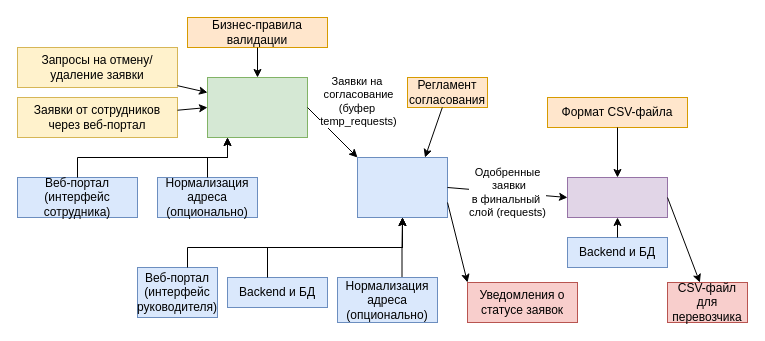
Image size: 765x341. Some labels were removed from this diagram. The shapes that lost their labels are listed below. From the top down, each one's box as (x1, y1, x2, y2) in pixels, then its label:
(206, 76, 308, 138): A1: Прием и нормализация заявок
(356, 156, 448, 218): A2: Согласование и управление заявками
(566, 176, 668, 218): A3: Экспорт подтвержденных поездок
